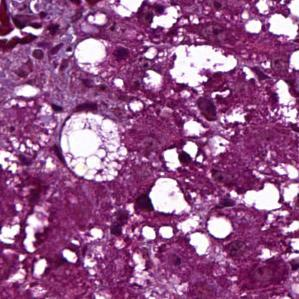ballooning: (59, 108, 132, 183)
